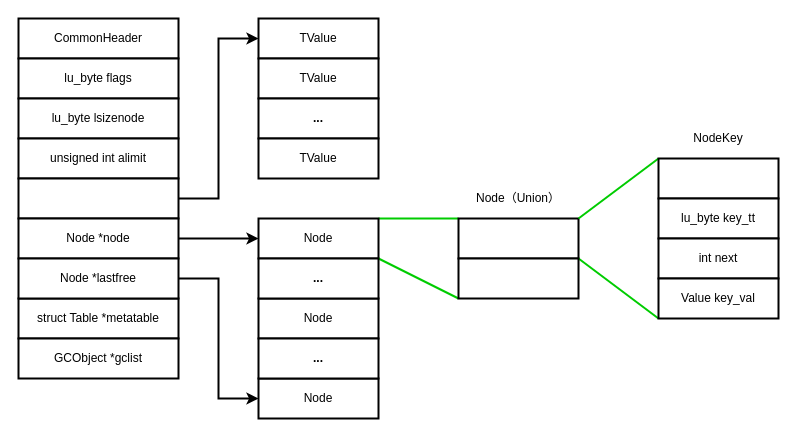
Image size: 796x436. Some labels were removed from this diagram. Each missing label, with the centre of its shape:
NodeKey u: pixel 518 238
TValue *array: pixel 98 198
TValue i_val: pixel 518 278
TValuefields: pixel 718 178
